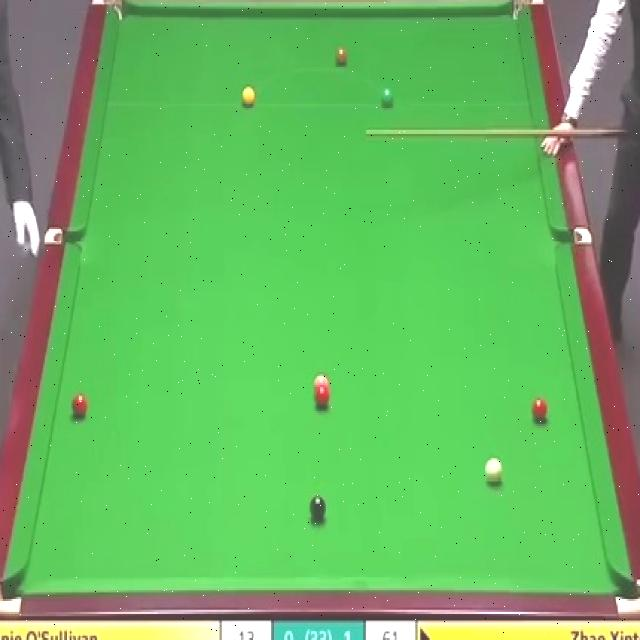black-ball: (308, 495, 328, 519)
brown-ball: (334, 48, 347, 70)
green-ball: (379, 85, 394, 108)
pink-ball: (313, 374, 329, 388)
red-ball: (530, 397, 549, 422), (70, 392, 88, 418), (316, 386, 330, 408)
white-ball: (484, 458, 504, 489)
yellow-ball: (241, 86, 255, 108)
